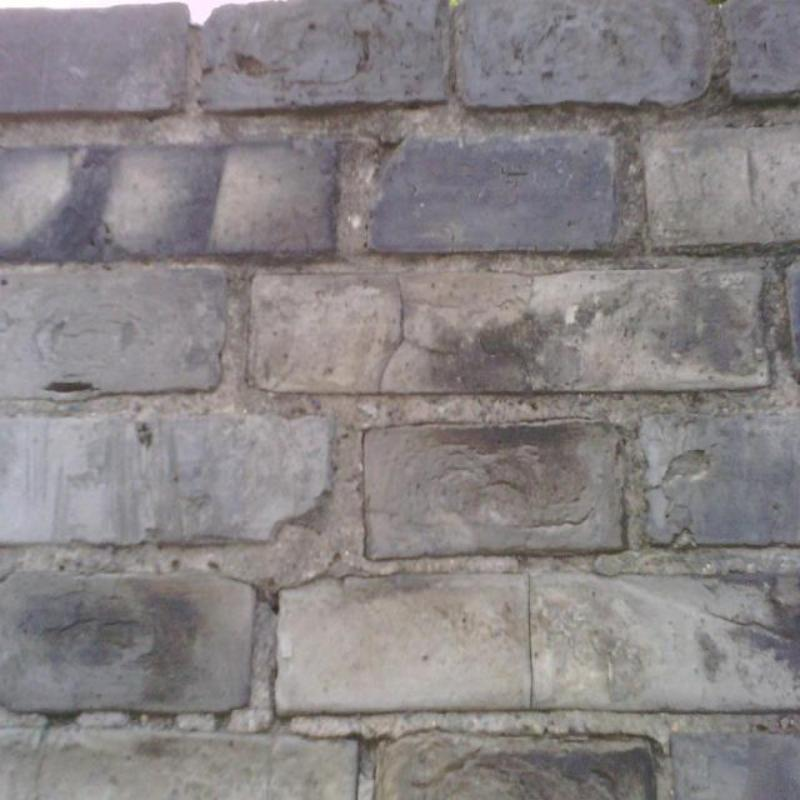pothole: (377, 274, 449, 397), (528, 574, 535, 710)
